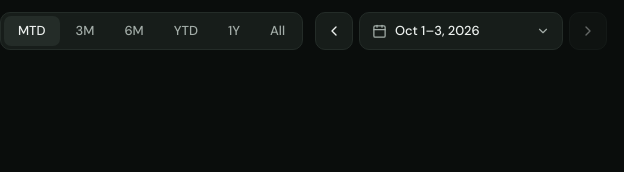
PeriodBar › follows the period it is given
The image size is (624, 172).
Click the button named "Previous month" at (334, 31), box [315, 12, 353, 50]
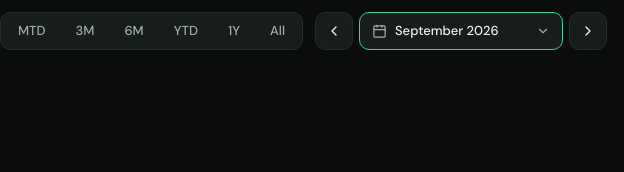
Expected: the button with test id "period-button" reads "September 2026", [359, 12, 563, 50]
Click the button named "Previous month" at (334, 31), box [315, 12, 353, 50]
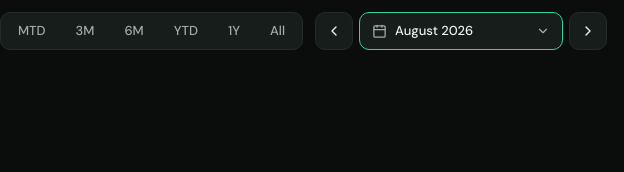
Expected: the button with test id "period-button" reads "August 2026", [359, 12, 563, 50]
Click the button named "Next month" at (588, 31), box [569, 12, 607, 50]
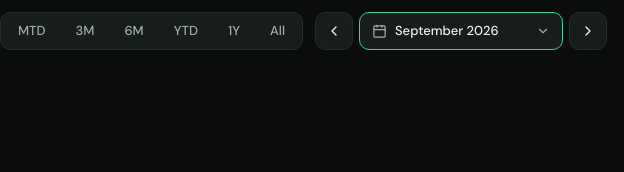
Click the button named "Next month" at (588, 31), box [569, 12, 607, 50]
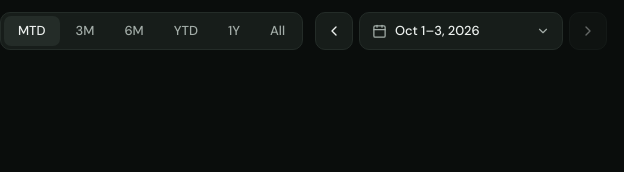
Expected: the button with test id "period-button" reads "Oct 1–3, 2026", [359, 12, 563, 50]
